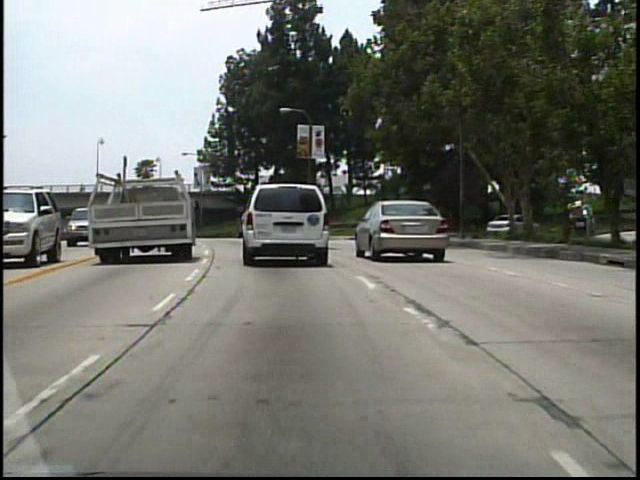person: (76, 179, 87, 199)
